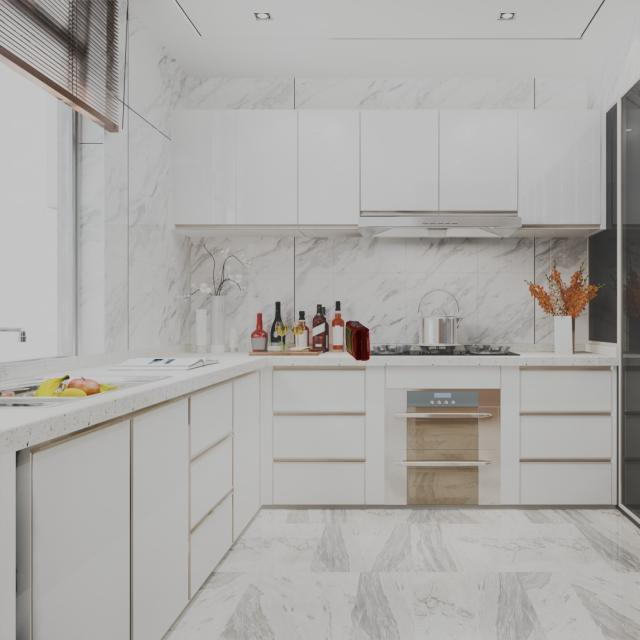mate bag: (344, 321, 374, 361)
